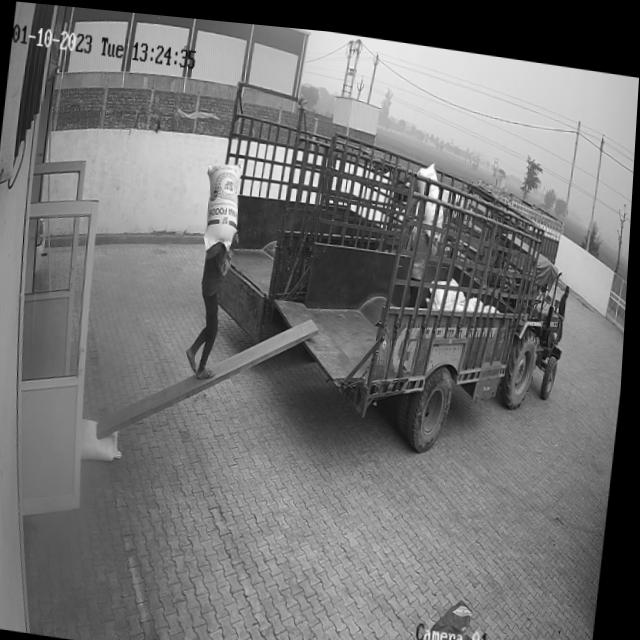sack: (202, 155, 245, 250), (84, 414, 130, 461)
